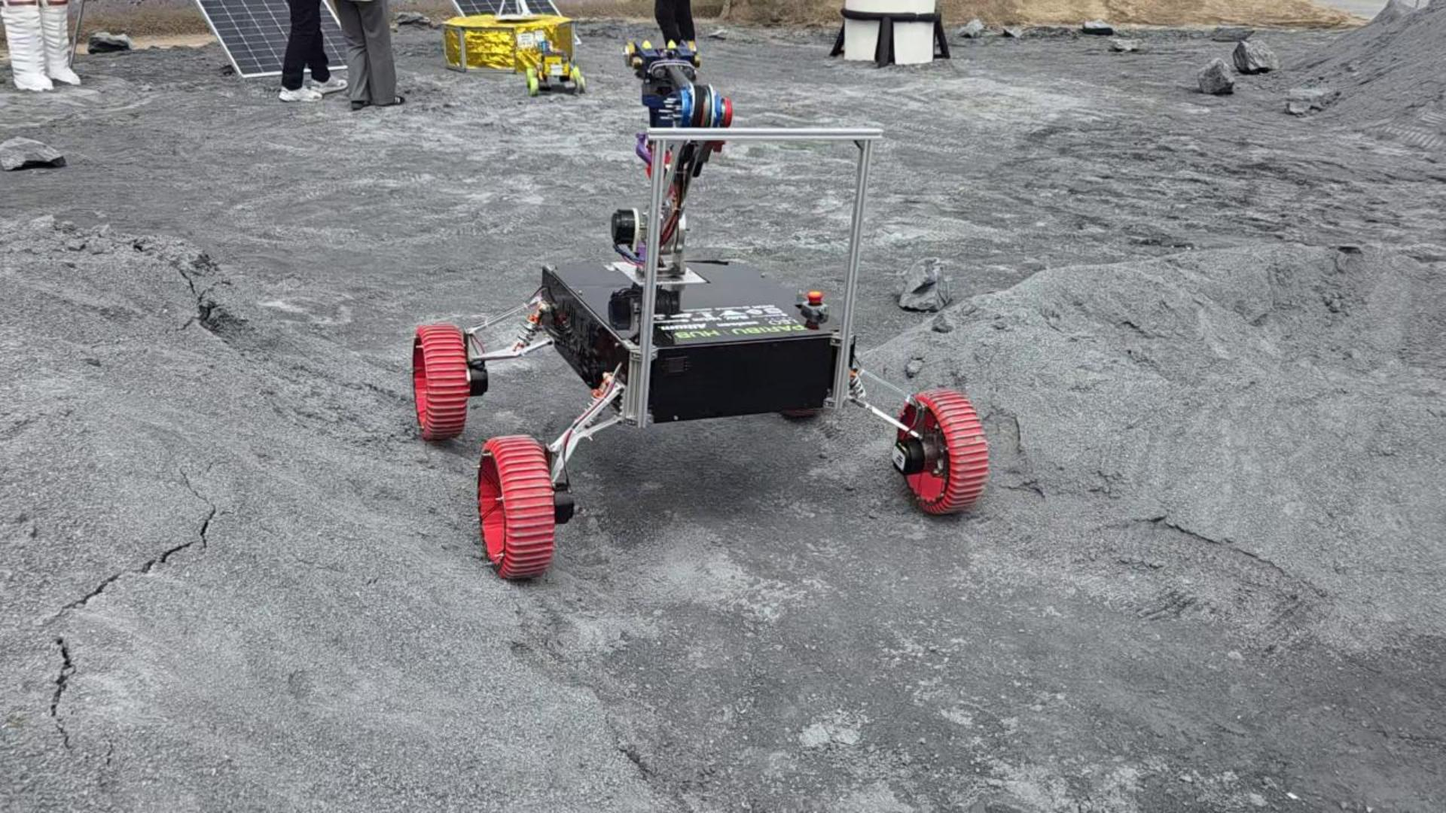rock: (898, 259, 949, 311), (0, 137, 64, 169), (1232, 41, 1279, 73), (1287, 87, 1339, 115), (1197, 58, 1234, 94), (87, 30, 133, 53), (1211, 25, 1253, 42), (1081, 19, 1114, 35), (957, 18, 984, 37), (1108, 37, 1139, 52), (1002, 26, 1023, 38)
